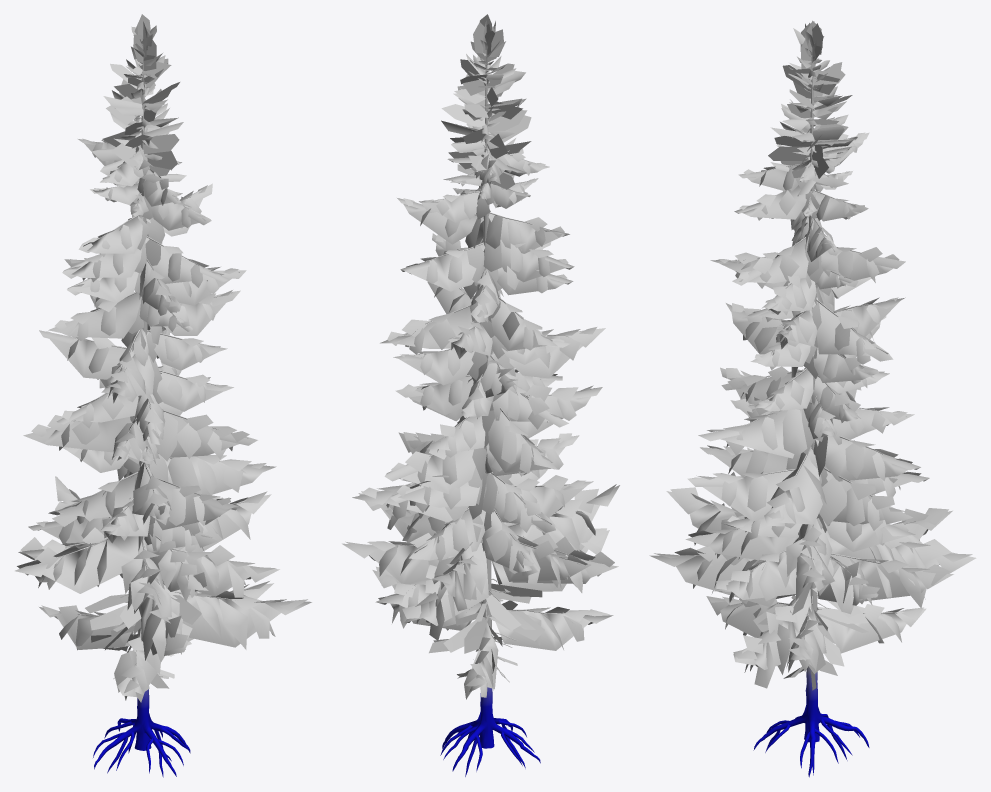
Rendered from Spruce_Tree2_LOD0.fbx.
3 views of the same model, side by side, from view 1: azimuth 30°, elevation 25°; view 2: azimuth 150°, elevation 25°; view 3: azimuth 270°, elevation 25° (orthographic).
Visible parts, largest first — view 1: polySurface2692; view 2: polySurface2692; view 3: polySurface2692.
Part boxes in pixels (x1,y1,x2,y2): polySurface2692: (15, 14, 311, 777); polySurface2692: (342, 14, 619, 776); polySurface2692: (649, 20, 976, 777).
Bounding box in the file's own units: 850 × 2346 × 932.
